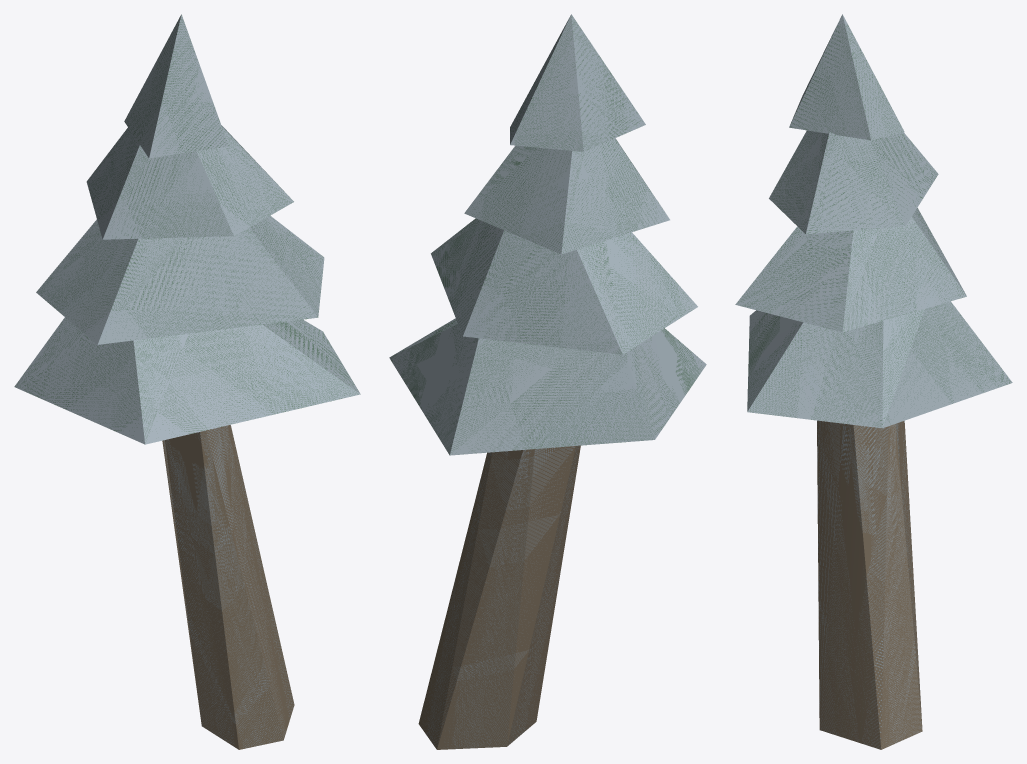
Rendered from Tree_Pine_Tall_02.fbx.
3 views of the same model, side by side, from view 1: azimuth 30°, elevation 25°; view 2: azimuth 150°, elevation 25°; view 3: azimuth 270°, elevation 25° (orthographic). The views are drawn at different scales.
Visible parts, largest first — view 1: Model; view 2: Model; view 3: Model.
Part boxes in pixels (x1,y1,x2,y2): Model: [14, 14, 360, 749]; Model: [389, 14, 706, 749]; Model: [735, 14, 1012, 749].
Bounding box in the file's own units: 575 × 1403 × 522.
